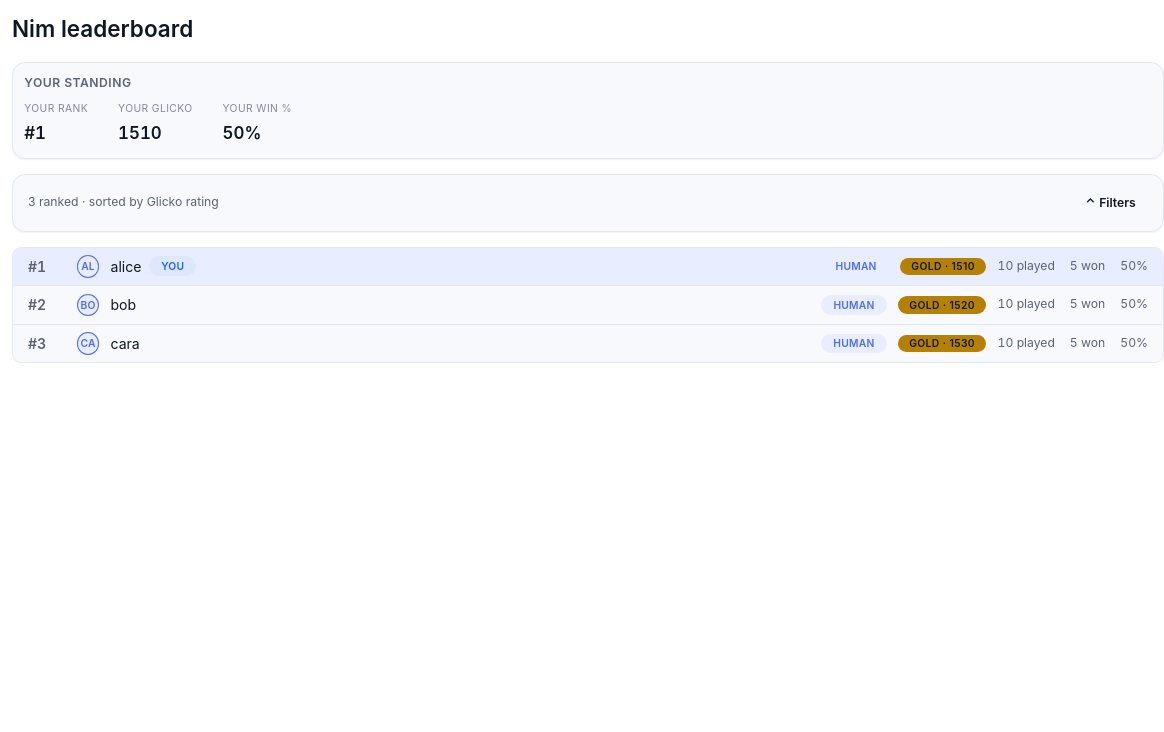
LeaderboardBoard — daily period UI › renders each row's daily delta badge across positive, negative and flat
Expected: the list with test id "lb-rows" is shown, x1=12 y1=247 x2=1163 y2=363
What coordinates should you click on to do the following:
click the button with test id "filter-toggle"
I would click on:
 (1111, 203)
Its box is x1=1073 y1=188 x2=1148 y2=218.
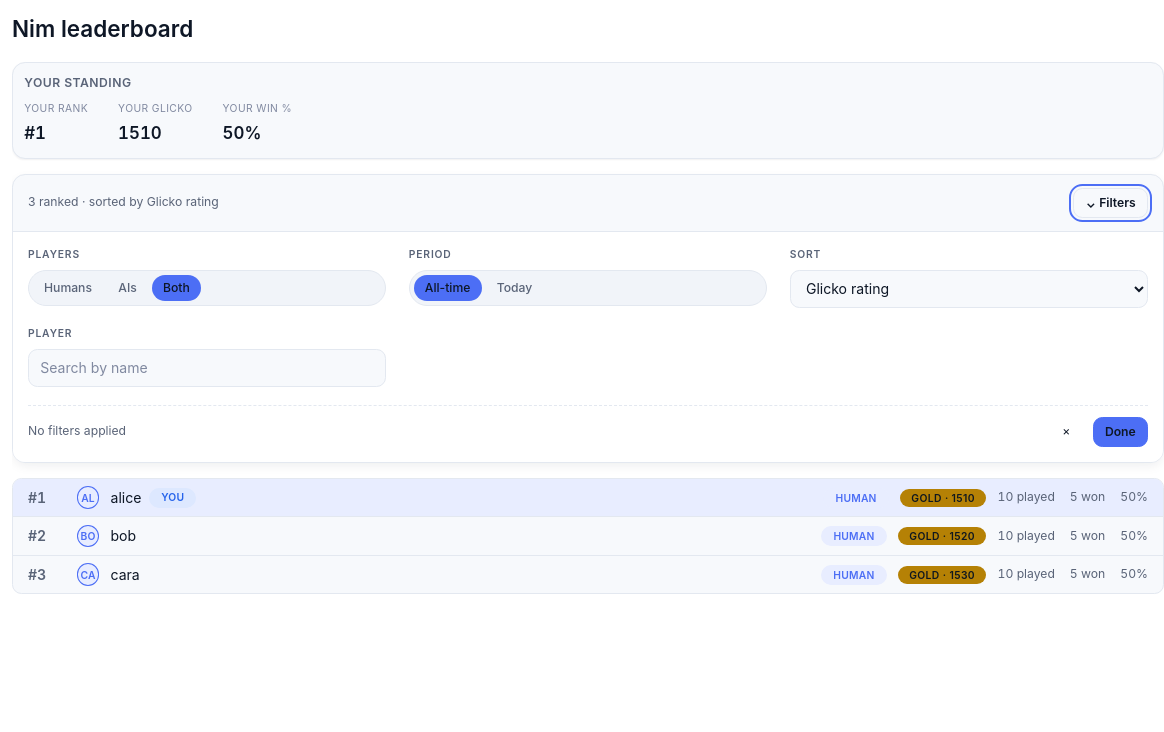
Expected: the element with test id "filter-bar-panel" is shown, x1=13 y1=231 x2=1163 y2=462
What coordinates should you click on to do the following:
click the radio button labelled "Today"
I would click on:
 (514, 288)
Its box is x1=485 y1=275 x2=544 y2=301.
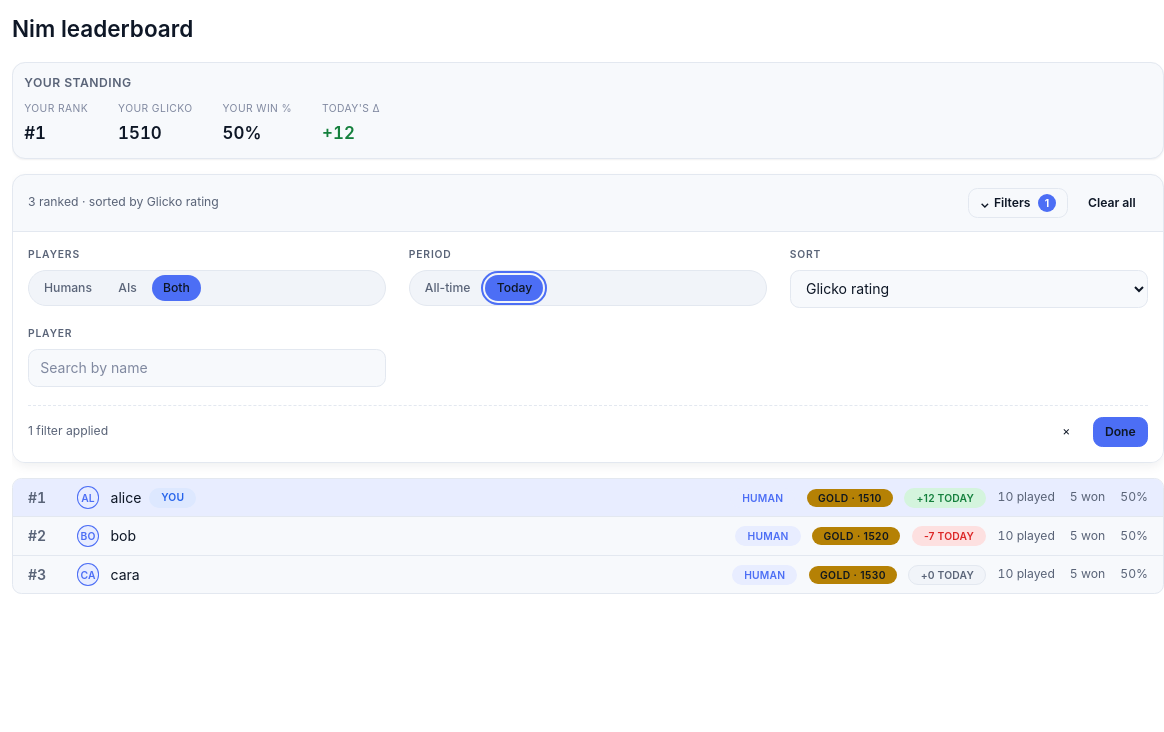
Expected: the text "+12 today" is shown, x1=916 y1=492 x2=974 y2=503
Expected: the text "-7 today" is shown, x1=924 y1=531 x2=974 y2=541
Expected: the text "+0 today" is shown, x1=921 y1=570 x2=974 y2=580
